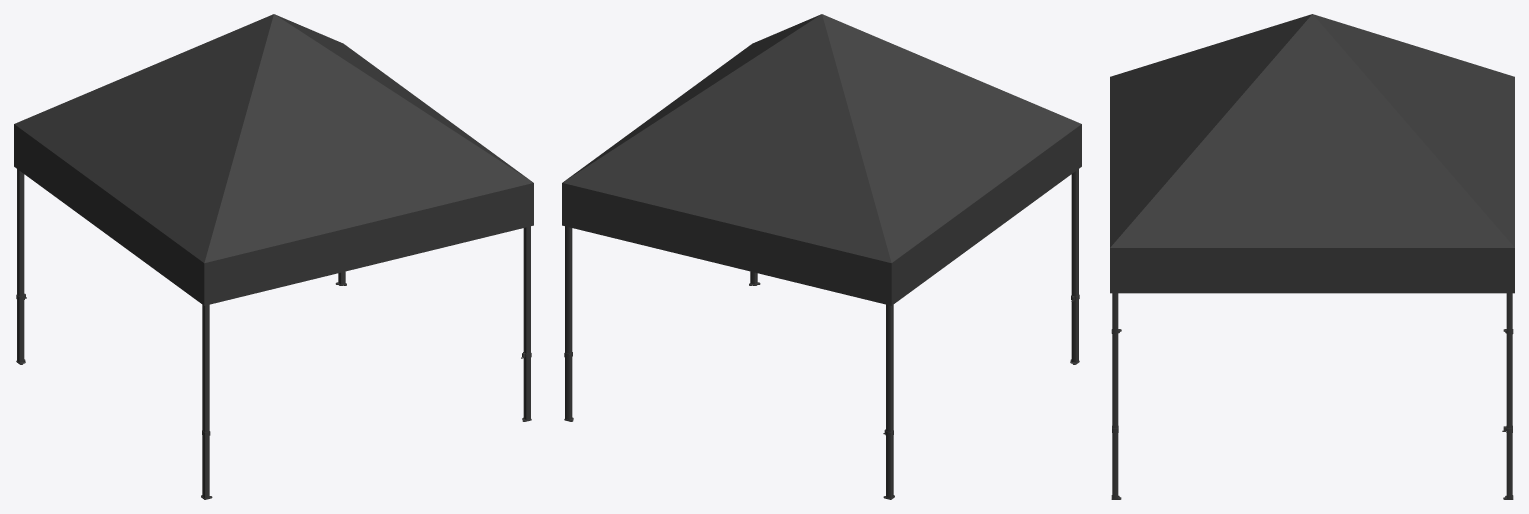
Rendered from tent-10ft.glb.
3 renders of one model, left to right at view 1: azimuth 30°, elevation 25°; view 2: azimuth 150°, elevation 25°; view 3: azimuth 270°, elevation 25°, orthographic. The views are drawn at different scales.
Visible parts, largest first — view 1: side_front, side_left, frame, side_right; view 2: side_back, side_left, frame, side_right; view 3: side_right, side_front, side_back, frame.
Boxes of the visible parts, bbox=[...] form: side_front: bbox=[204, 14, 533, 305]; side_left: bbox=[14, 14, 273, 305]; frame: bbox=[16, 169, 531, 499]; side_right: bbox=[275, 14, 531, 181]; side_back: bbox=[562, 14, 891, 305]; side_left: bbox=[822, 14, 1081, 305]; frame: bbox=[564, 169, 1079, 499]; side_right: bbox=[564, 14, 820, 181]; side_right: bbox=[1110, 14, 1514, 293]; side_front: bbox=[1110, 14, 1311, 247]; side_back: bbox=[1313, 14, 1514, 247]; frame: bbox=[1111, 293, 1513, 499].
Size of the model in its own units: 3.08 by 3.37 by 3.08.
Materials: 1 (1 with a texture image).
